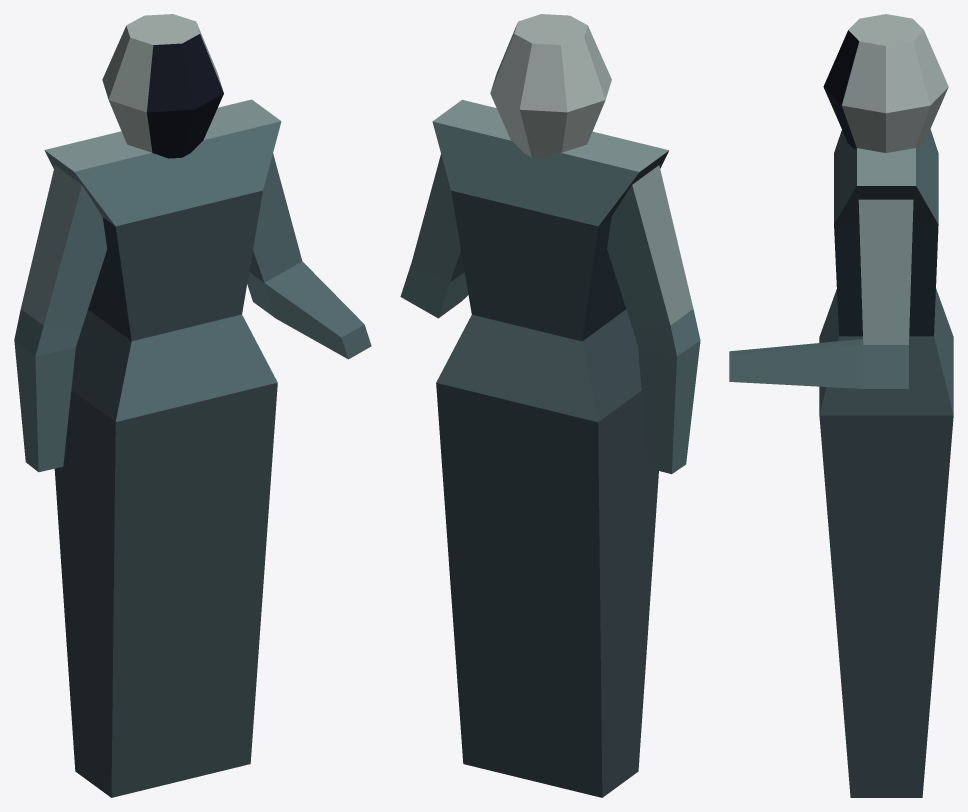
The model's file is Units.glb.
3 renders of one model, left to right at view 1: azimuth 30°, elevation 25°; view 2: azimuth 150°, elevation 25°; view 3: azimuth 270°, elevation 25°, orthographic.
Parts seen in each view (by area): view 1: Soldier, Soldier.002, Soldier.001; view 2: Soldier, Soldier.002, Soldier.001; view 3: Soldier, Soldier.001.
Part boxes in pixels (x1,y1,x2,y2): Soldier: [44, 14, 281, 797]; Soldier.002: [14, 165, 107, 472]; Soldier.001: [247, 153, 371, 359]; Soldier: [432, 14, 668, 797]; Soldier.002: [607, 165, 700, 474]; Soldier.001: [400, 154, 468, 318]; Soldier: [819, 14, 953, 797]; Soldier.001: [729, 199, 913, 388].
Size of the model in its own units: 0.745 by 1.89 by 0.5239.
1 material, 1 textured.
